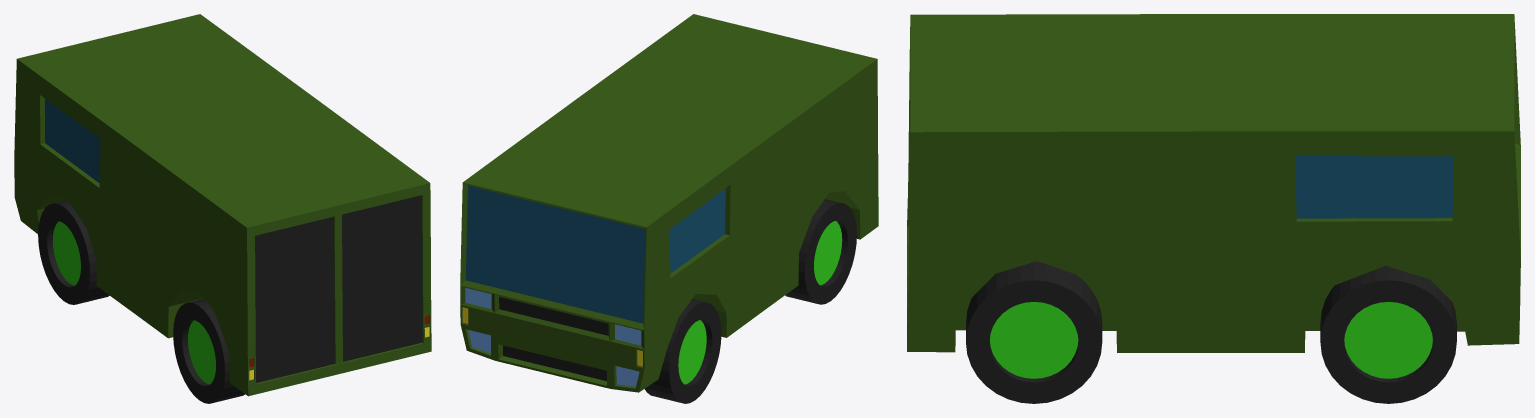
File: Camion.fbx
3 renders of one model, left to right at view 1: azimuth 30°, elevation 25°; view 2: azimuth 150°, elevation 25°; view 3: azimuth 270°, elevation 25°, orthographic. The views are drawn at different scales.
Visible parts, largest first — view 1: Auto.001; view 2: Auto.001; view 3: Auto.001.
Part boxes in pixels (x1,y1,x2,y2): Auto.001: [14, 14, 431, 403]; Auto.001: [460, 14, 878, 403]; Auto.001: [907, 14, 1520, 403].
Bounding box in the file's own units: 271 × 290 × 594.
1 material, 1 textured.
